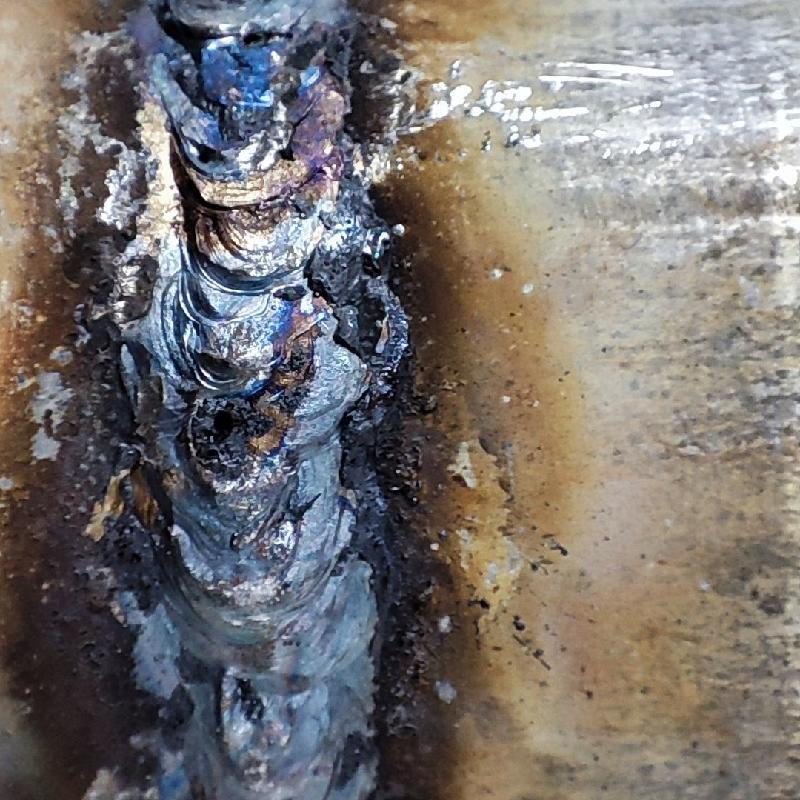Surface_pores: (193, 399, 260, 456), (184, 131, 234, 178), (222, 675, 273, 710), (268, 70, 308, 114), (267, 131, 304, 166), (236, 19, 268, 56)
